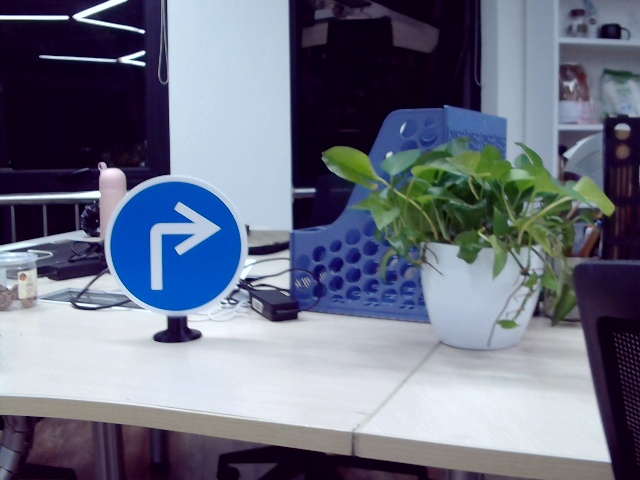turn_right: (141, 205, 218, 288)
